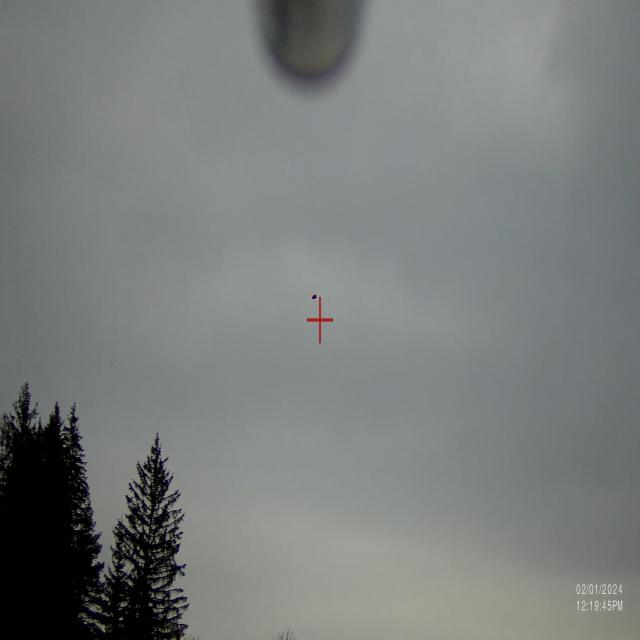entire: (303, 283, 319, 314)
